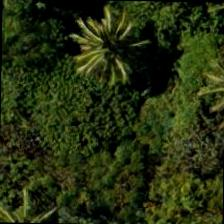Kelapa_Sawit: (64, 5, 156, 97)
